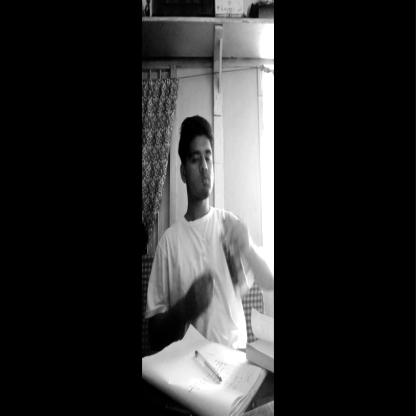Distracted: (175, 114, 219, 212)
